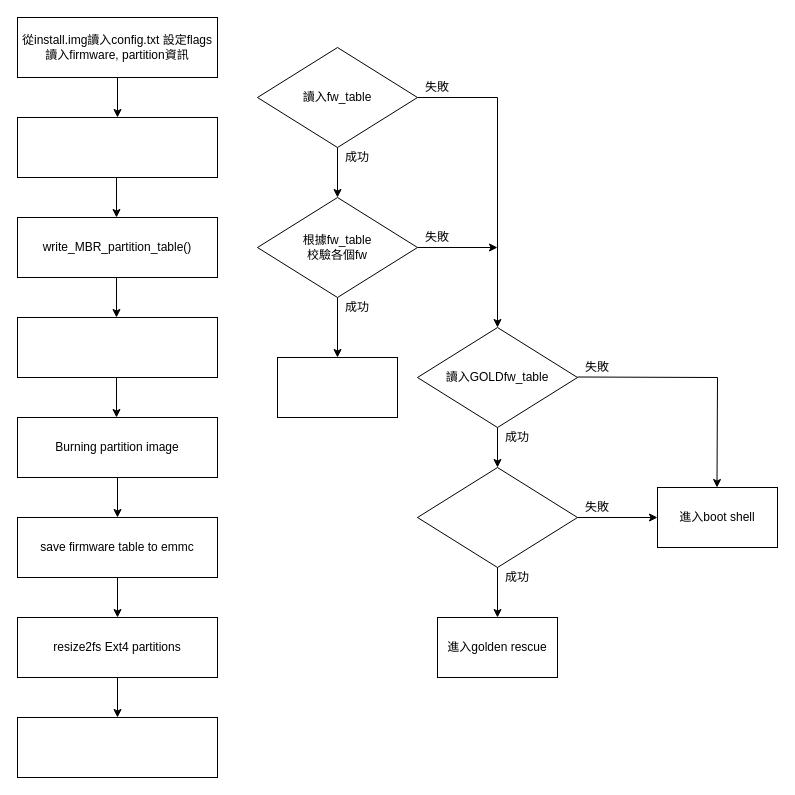
This 795x795 diagram has some shape labels left out. Here are the shapes that lost their labels. From the top down, the centre of each, then its label:
At (117,147): "產生layout view".
At (117,347): "Burning firmware".
At (337,387): "進入主系統".
At (497,517): "根據GOLDfw_table 校驗各個fw".
At (117,747): "reboot".
